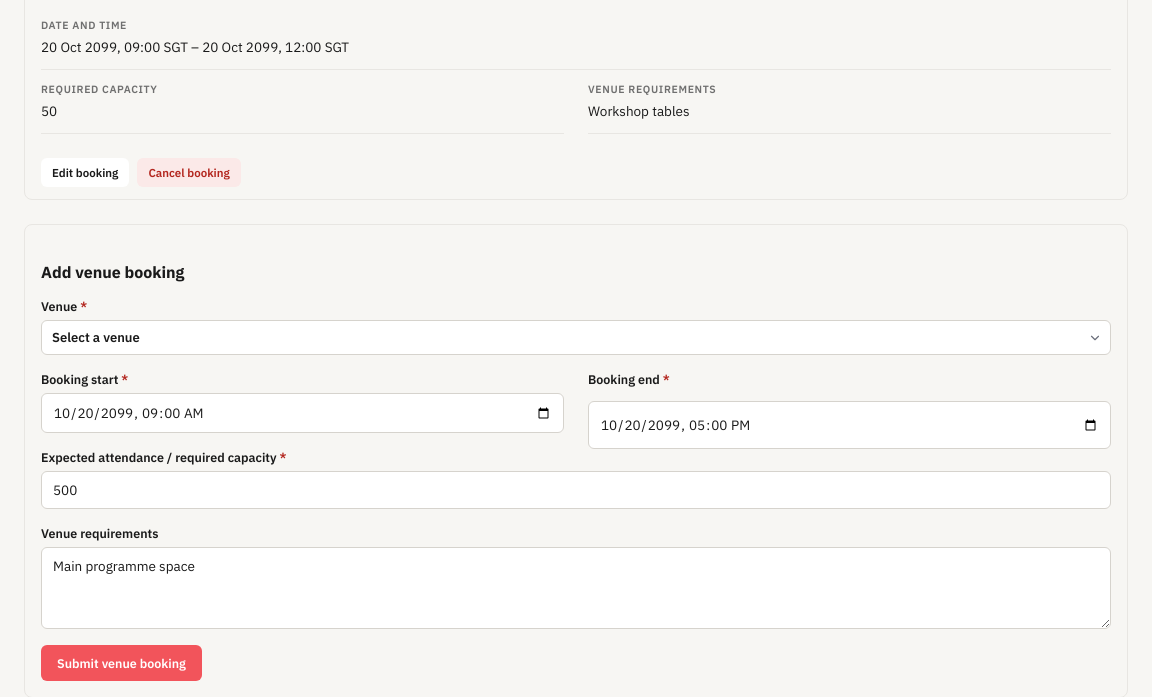
Test: one failed request leaves existing bookings intact and permits another submission
(page scrolled)
Select "Breakout Room B · capacity 60" in the dropdown labelled "Venue *" at coordinates (576, 338), box [41,320,1111,355]
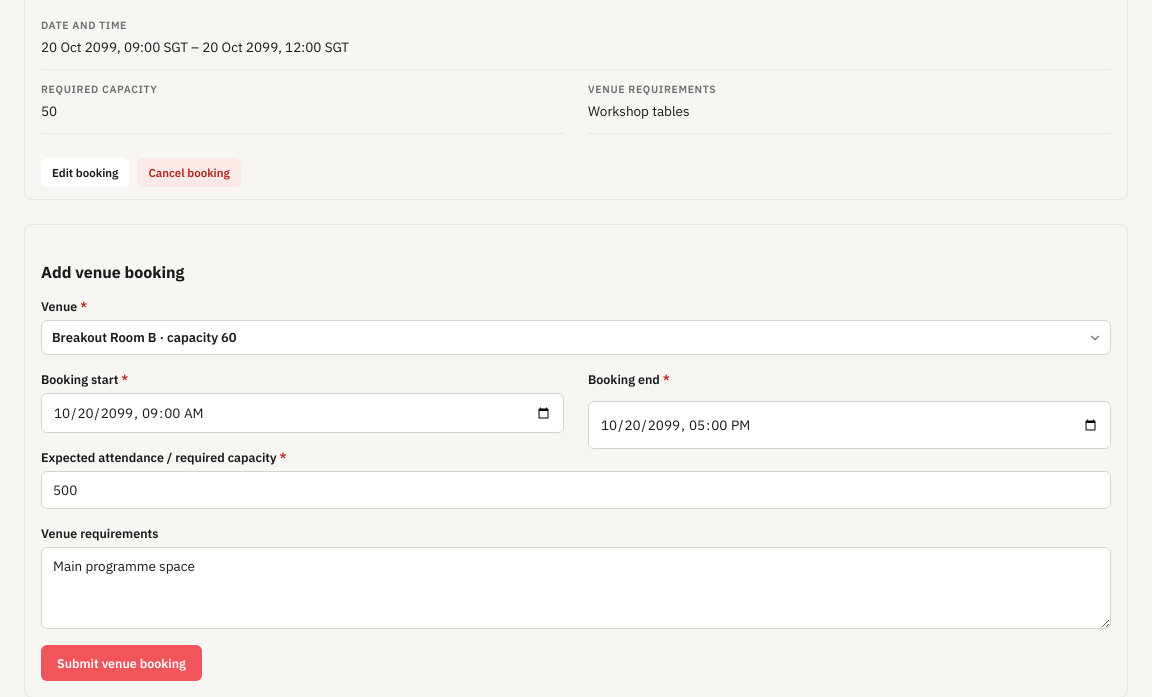
Replace the text in the number field labelled "Expected attendance / required capacity *" with "50" at coordinates (576, 490), box [41,471,1111,509]
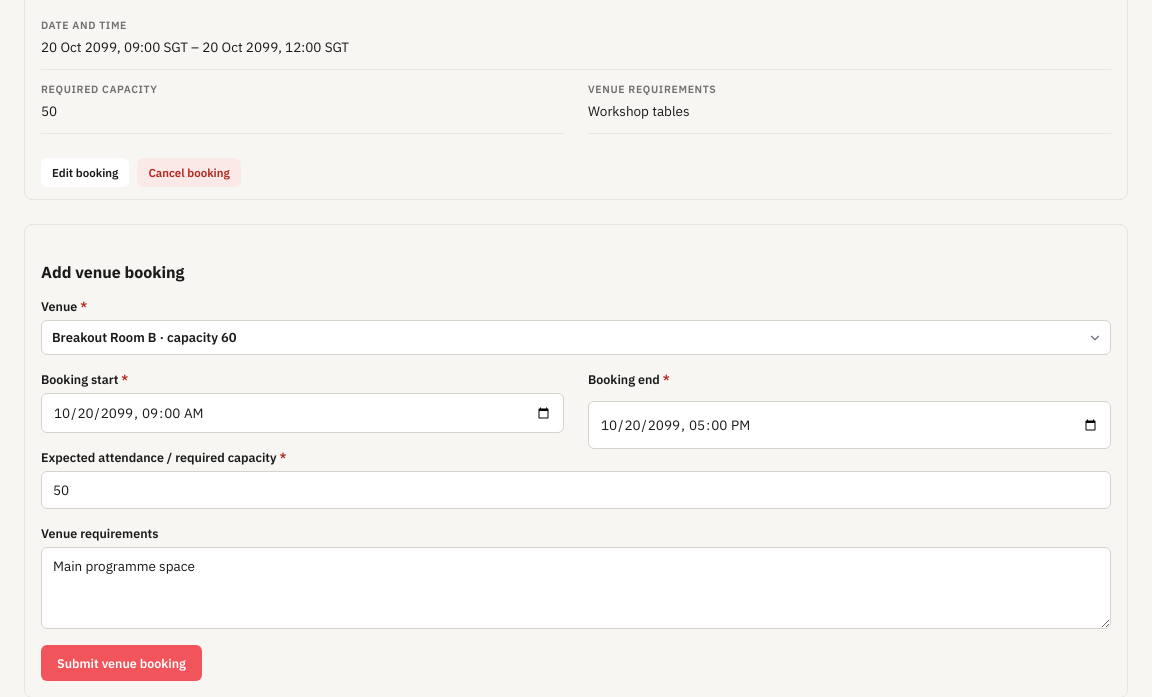
Click the button "Submit venue booking".
click(121, 663)  # box [41,645,202,681]
(page scrolled)
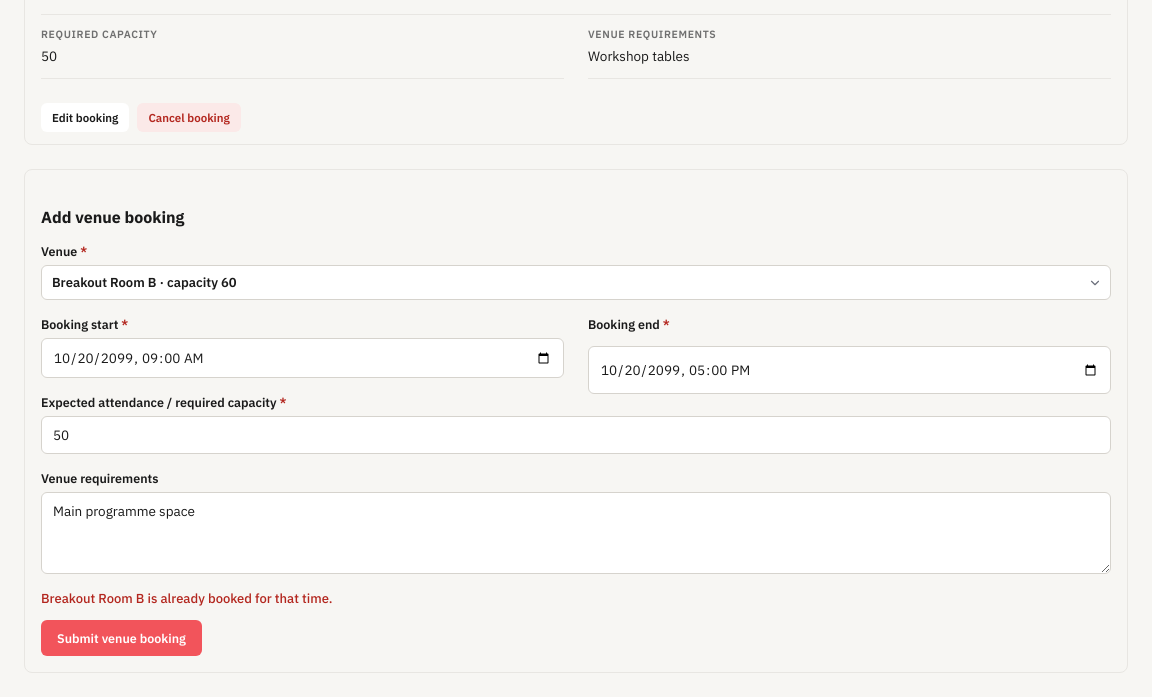
Check: the message shows "already booked", box [41,590,332,607]
Click the button "Submit venue booking".
click(121, 638)  # box [41,620,202,656]
(page scrolled)
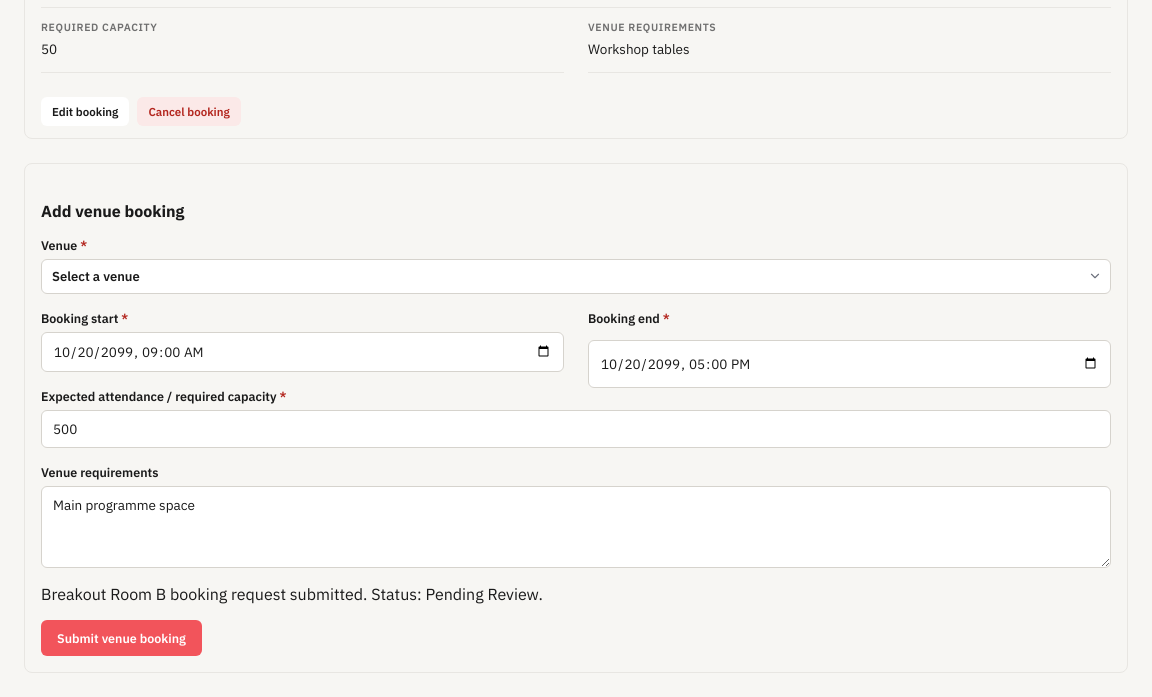
Check: the text "Breakout Room B booking request submitted. Status: Pending Review." is shown, box [41,584,543,604]
